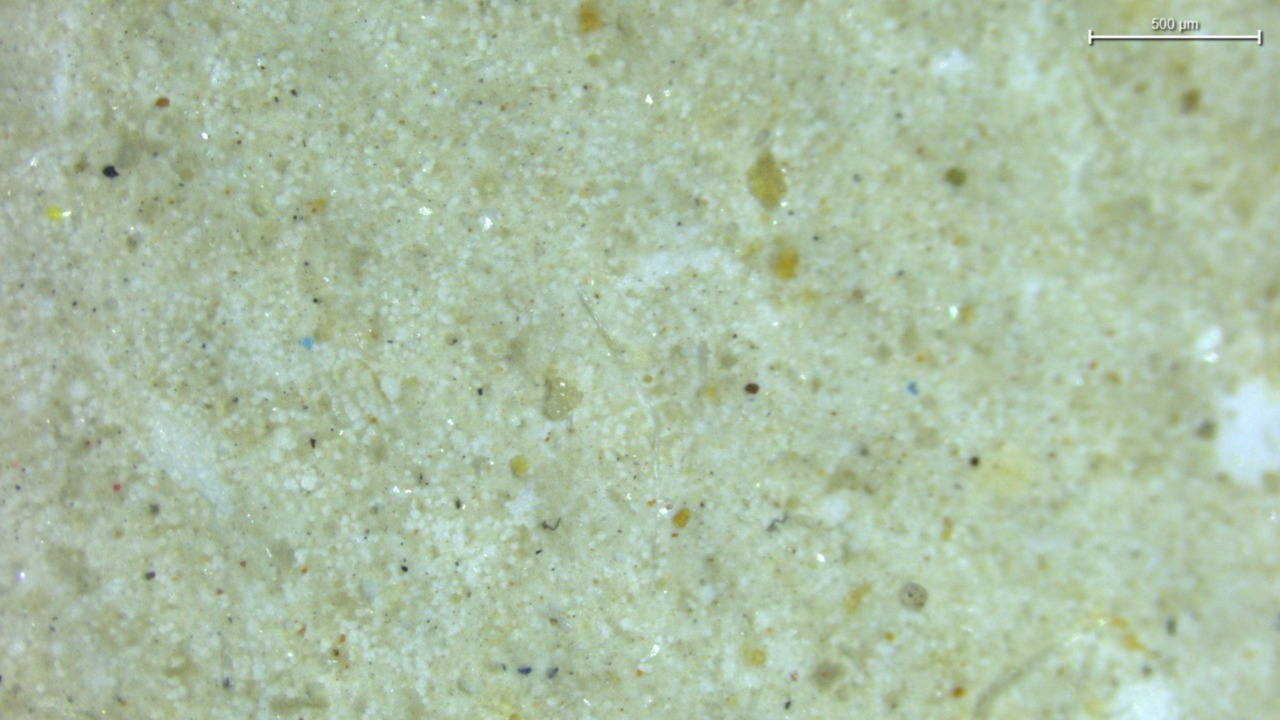microplastic_fragment: (542, 376, 583, 420)
